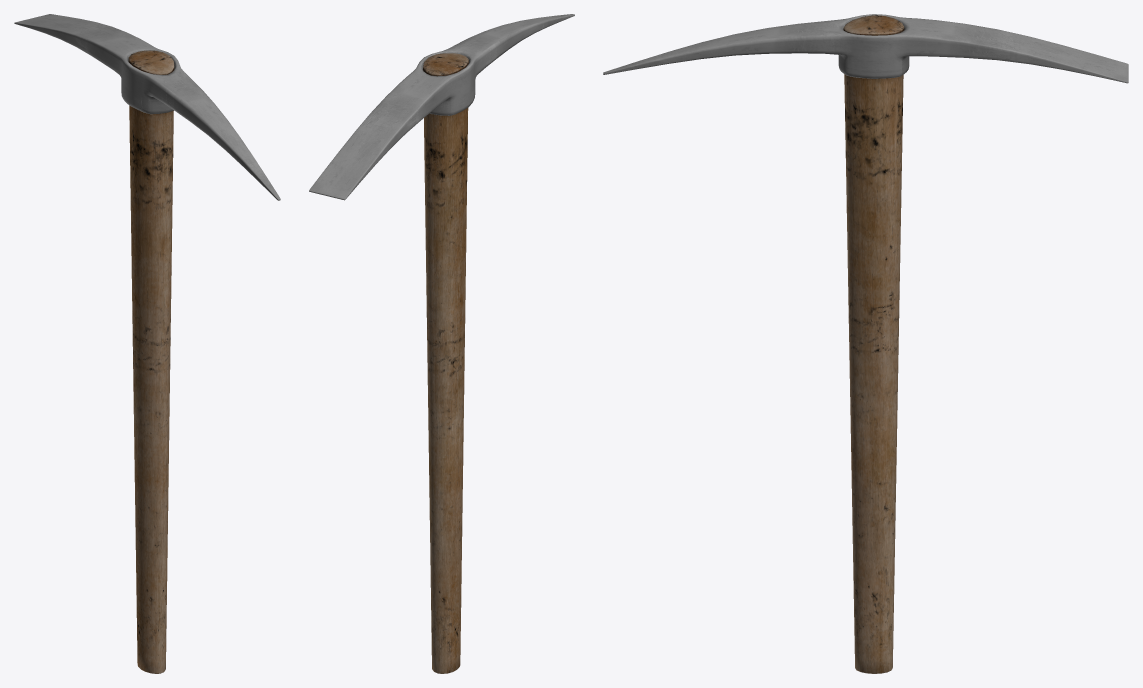
The model's file is pickaxe-raw-l.obj.
3 views of the same model, side by side, from view 1: azimuth 30°, elevation 25°; view 2: azimuth 150°, elevation 25°; view 3: azimuth 270°, elevation 25° (orthographic). The views are drawn at different scales.
Visible parts, largest first — view 1: Cylinder.003, Cube_Cube.001; view 2: Cylinder.003, Cube_Cube.001; view 3: Cylinder.003, Cube_Cube.001.
Part boxes in pixels (box(x1,y1,x2,y2)): Cylinder.003: box(128, 50, 174, 673); Cube_Cube.001: box(14, 14, 280, 200); Cylinder.003: box(423, 53, 468, 673); Cube_Cube.001: box(309, 14, 574, 200); Cylinder.003: box(843, 15, 904, 673); Cube_Cube.001: box(603, 14, 1128, 83).
Size of the model in its own units: 0.4284 by 5.47 by 4.04.
